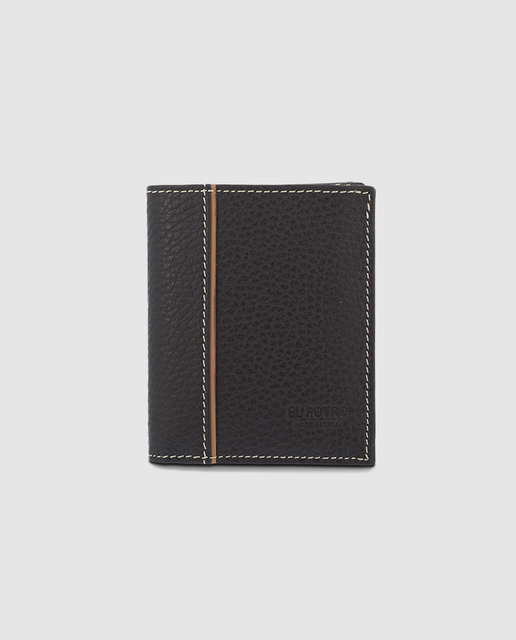monedero: (145, 181, 378, 470)
